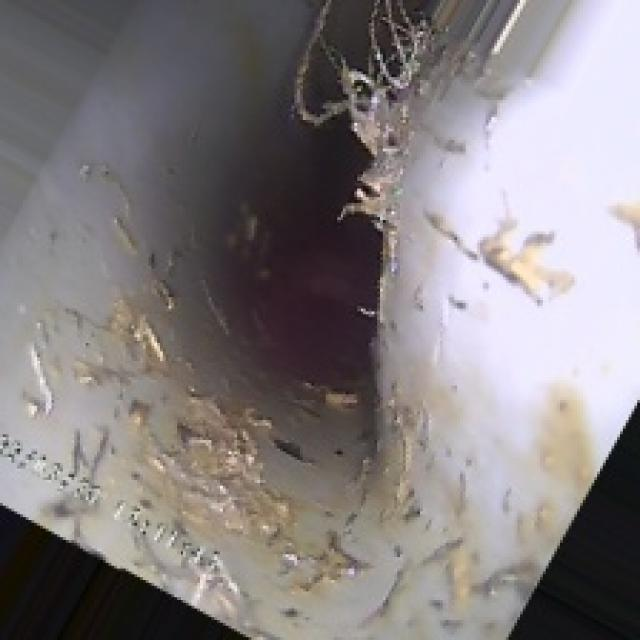shape_deformation: (134, 46, 597, 451)
